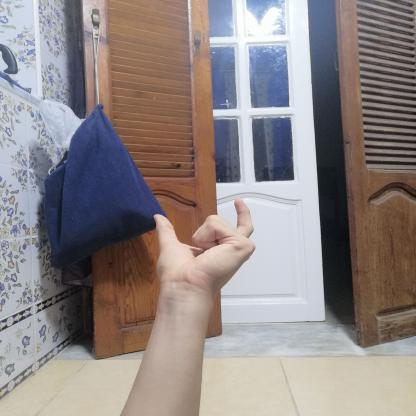NOON: (134, 186, 273, 307)
